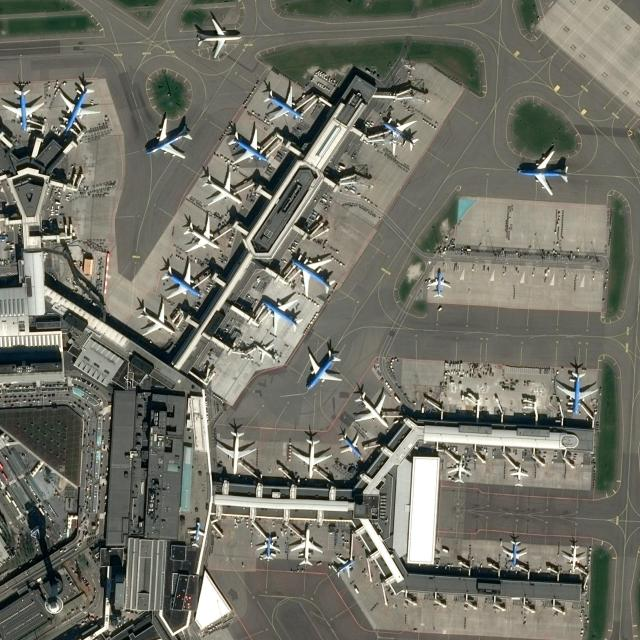aircraft: (516, 147, 570, 195), (56, 81, 102, 132), (144, 112, 192, 160), (288, 255, 336, 298), (555, 368, 597, 416), (214, 430, 257, 476), (195, 16, 241, 58), (1, 87, 44, 131), (290, 436, 332, 481), (225, 126, 269, 166), (302, 348, 342, 390), (158, 260, 202, 298), (262, 82, 303, 122), (260, 296, 304, 333), (380, 116, 420, 156), (351, 389, 391, 429), (200, 169, 242, 207), (182, 214, 222, 252), (136, 300, 176, 336), (289, 527, 323, 567), (338, 430, 364, 460), (256, 533, 282, 561), (427, 268, 451, 298), (562, 542, 586, 572), (502, 538, 526, 567), (446, 458, 472, 484), (332, 554, 356, 578), (254, 341, 278, 364), (186, 520, 205, 547), (511, 464, 528, 488)
